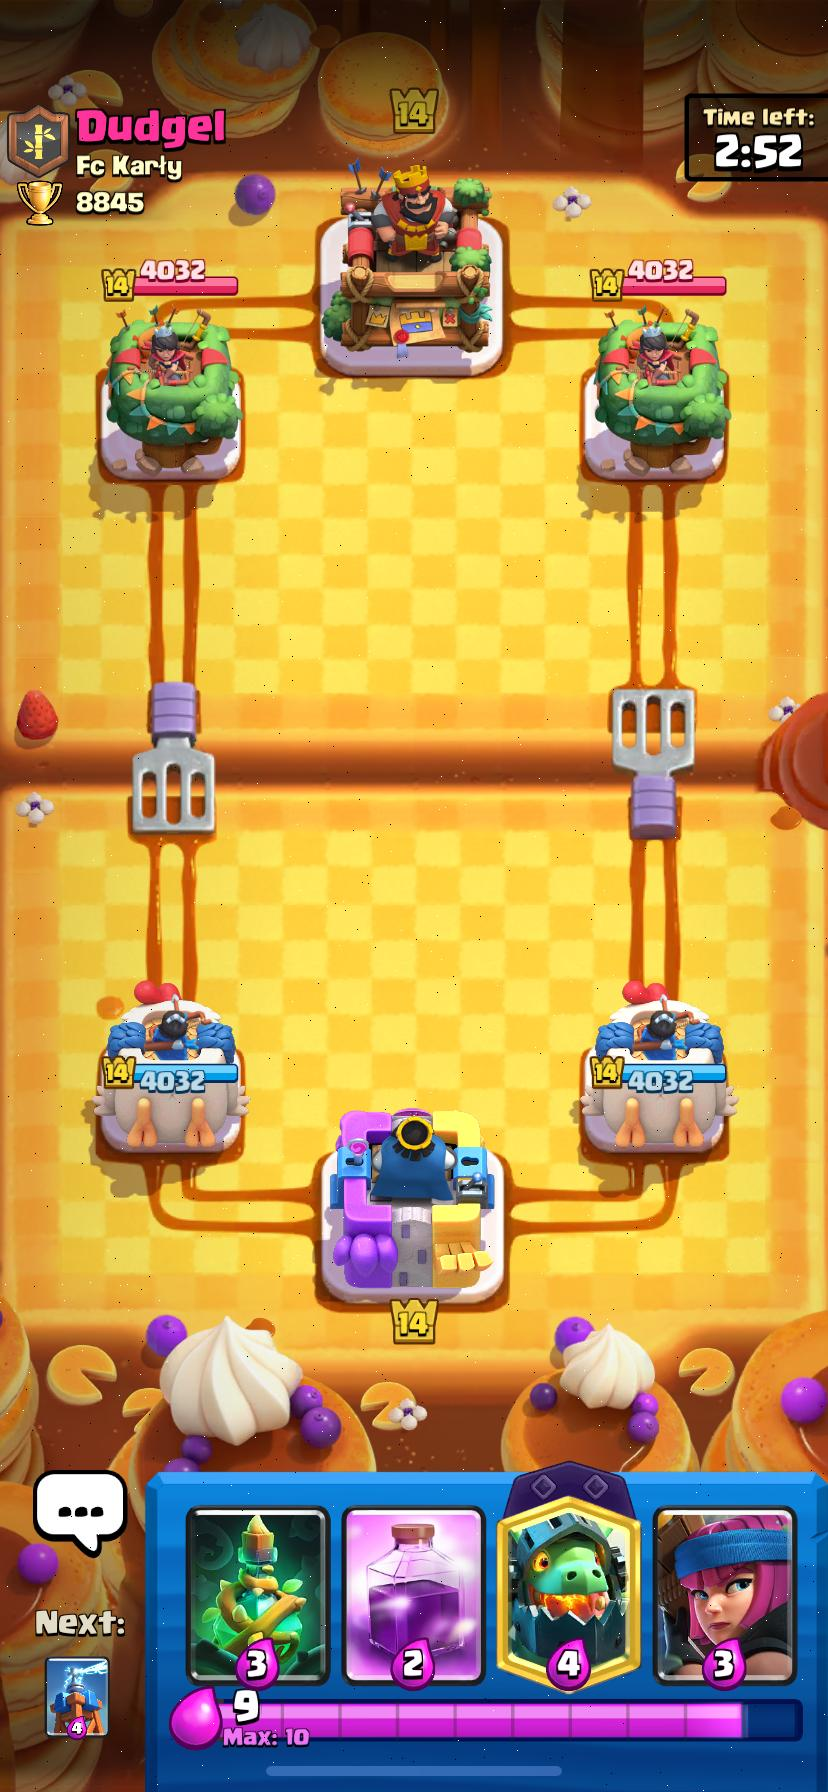EKingTower: (323, 165, 491, 351)
EnemyPrincessTower: (594, 311, 729, 473), (108, 310, 241, 466)
OwnKingTower: (331, 1109, 493, 1301)
OwnPrincessTower: (580, 982, 735, 1151), (93, 983, 248, 1151)
